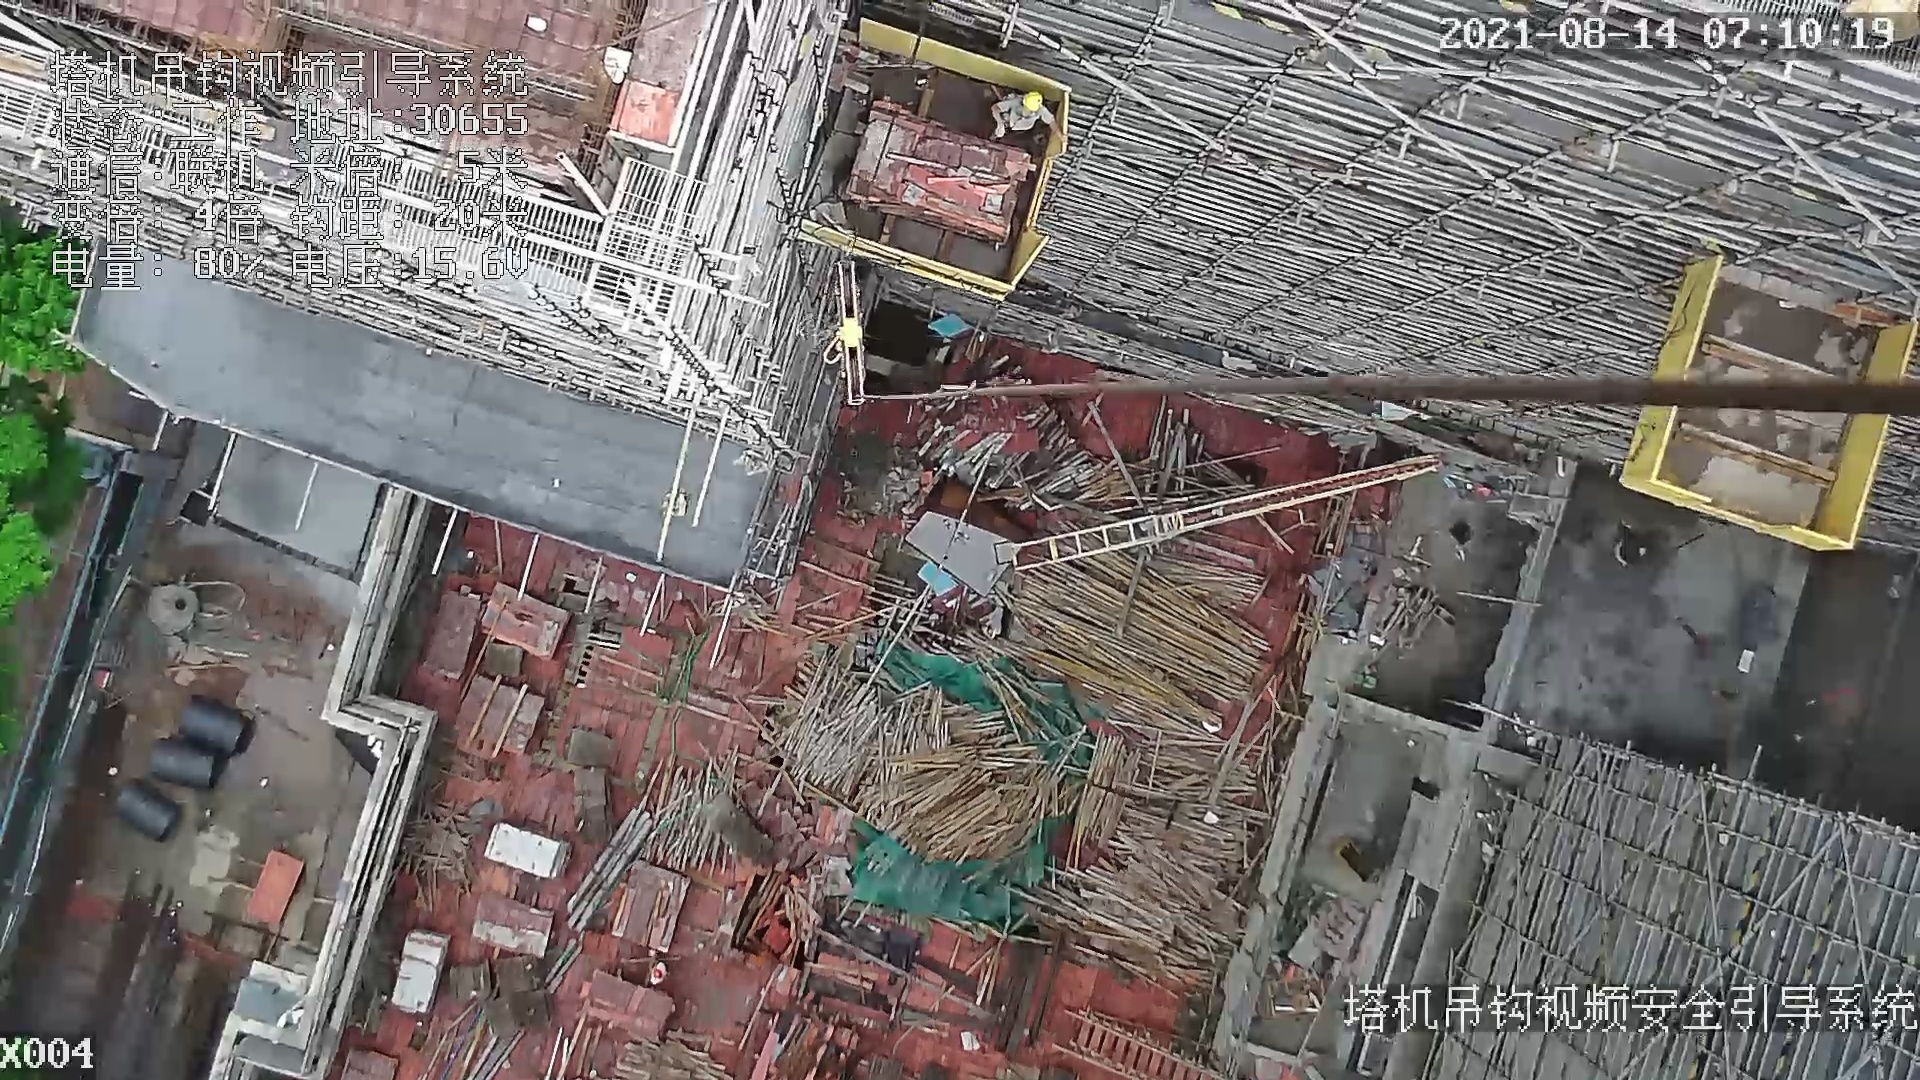helmet: (1019, 89, 1044, 115), (654, 969, 663, 980)
hook: (818, 254, 869, 408)
person: (989, 83, 1065, 149), (649, 960, 668, 987)
